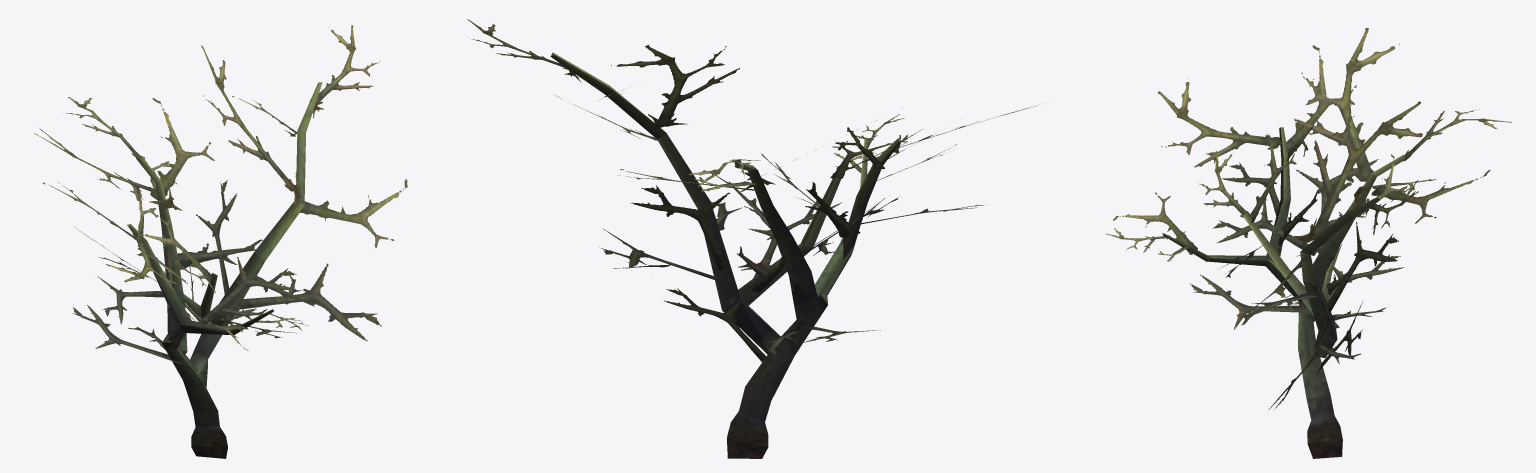
Rendered from ZhiWu_All_03.FBX.
3 renders of one model, left to right at view 1: azimuth 30°, elevation 25°; view 2: azimuth 150°, elevation 25°; view 3: azimuth 270°, elevation 25°, orthographic. The views are drawn at different scales.
Parts seen in each view (by area): view 1: ZhiWu_All_03; view 2: ZhiWu_All_03; view 3: ZhiWu_All_03.
Boxes of the visible parts, left/top/right/bottom form: ZhiWu_All_03: left=34, top=25, right=407, bottom=458; ZhiWu_All_03: left=467, top=19, right=1035, bottom=458; ZhiWu_All_03: left=1106, top=28, right=1511, bottom=458.
Size of the model in its own units: 124 by 107 by 109.
